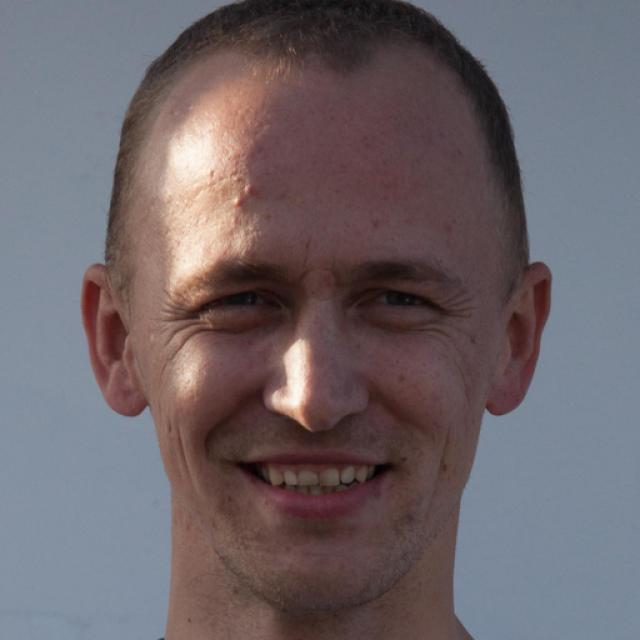Acne: (226, 188, 245, 213), (227, 168, 252, 184), (237, 182, 258, 197)
Spots: (456, 320, 483, 352), (357, 213, 388, 236), (389, 372, 414, 393), (436, 220, 455, 245)
